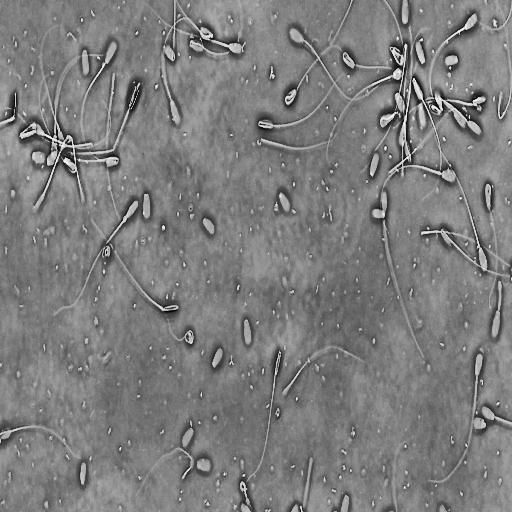coiled-tail: (285, 46, 344, 105), (485, 182, 497, 307), (380, 109, 402, 129), (286, 92, 294, 101)
folded-tail: (363, 42, 407, 168), (260, 74, 341, 127), (412, 78, 442, 198), (441, 230, 509, 277), (190, 4, 243, 55), (177, 1, 213, 37), (342, 52, 392, 69)
loose-head: (277, 190, 293, 215), (242, 316, 254, 349), (140, 189, 152, 222), (210, 344, 224, 371), (369, 148, 381, 179), (201, 215, 217, 238), (181, 425, 195, 450), (80, 47, 91, 78), (415, 38, 427, 65), (196, 455, 213, 474), (472, 414, 488, 433), (78, 458, 88, 486), (370, 206, 388, 221), (444, 53, 459, 69)
loose-tail: (419, 228, 512, 271), (258, 113, 343, 155), (135, 444, 195, 497), (497, 29, 512, 122)
normal: (52, 199, 139, 315), (90, 215, 182, 316), (379, 190, 428, 366), (426, 349, 484, 484), (435, 133, 489, 276), (287, 24, 383, 101), (252, 67, 348, 134), (361, 41, 410, 171), (242, 345, 284, 489), (142, 0, 245, 57), (377, 161, 456, 232), (80, 37, 119, 170), (429, 11, 479, 111), (439, 224, 512, 280), (283, 44, 346, 108), (412, 77, 443, 202), (188, 0, 245, 58), (161, 17, 187, 127), (398, 13, 414, 151), (483, 179, 499, 309), (342, 51, 404, 79), (175, 0, 215, 42), (389, 44, 405, 67)
proximal-droplet: (123, 215, 127, 223)
